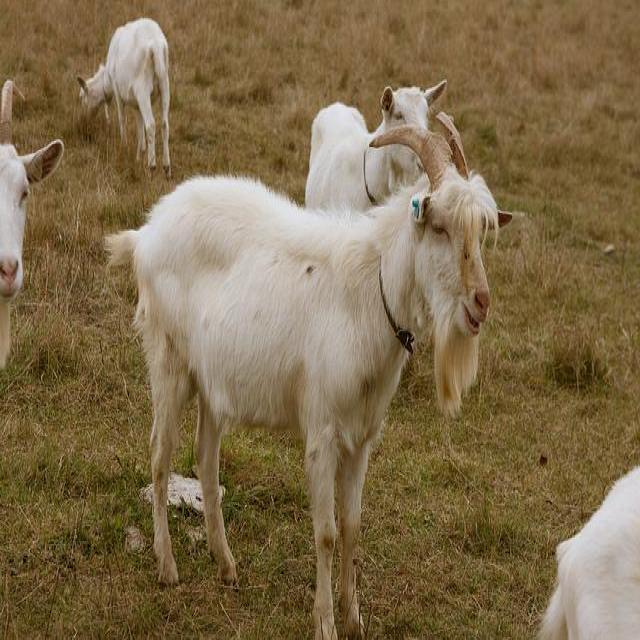Sheep: (96, 108, 529, 634), (0, 76, 64, 369), (306, 78, 448, 210), (533, 465, 639, 634), (75, 19, 172, 180)
